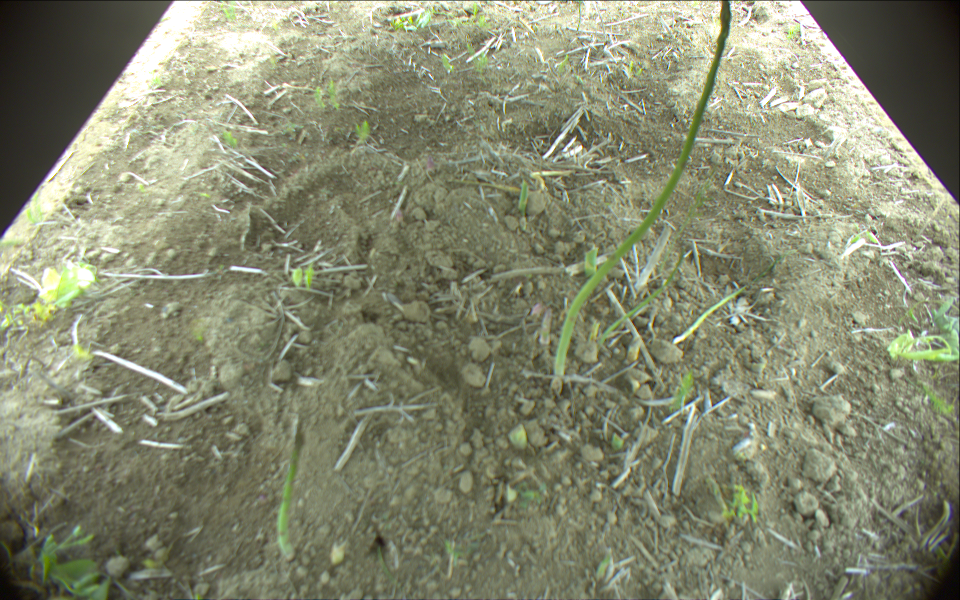aspa: (555, 1, 732, 379), (596, 236, 688, 348), (674, 280, 749, 343), (275, 422, 304, 562), (584, 247, 596, 278), (517, 178, 528, 208)
